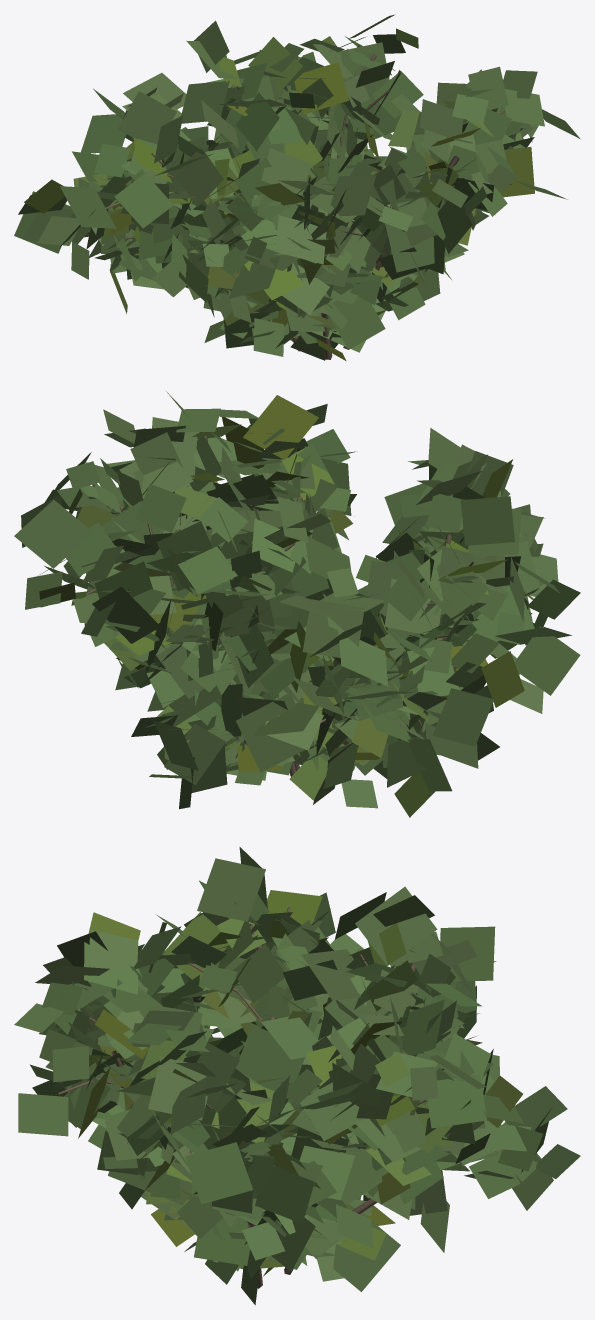
Rendered from vinemound_a.glb.
The picture shows the model from 3 angles, top to bottom: view 1: azimuth 30°, elevation 25°; view 2: azimuth 150°, elevation 25°; view 3: azimuth 270°, elevation 25°; orthographic projection. The views are drawn at different scales.
Visible parts, largest first — view 1: vinemound_a; view 2: vinemound_a; view 3: vinemound_a.
Boxes of the visible parts, x1=… form: vinemound_a: x1=14, y1=14, x2=580, y2=361; vinemound_a: x1=14, y1=391, x2=580, y2=817; vinemound_a: x1=14, y1=847, x2=580, y2=1305.
Bounding box in the file's own units: 3.43 × 2.01 × 2.91.
